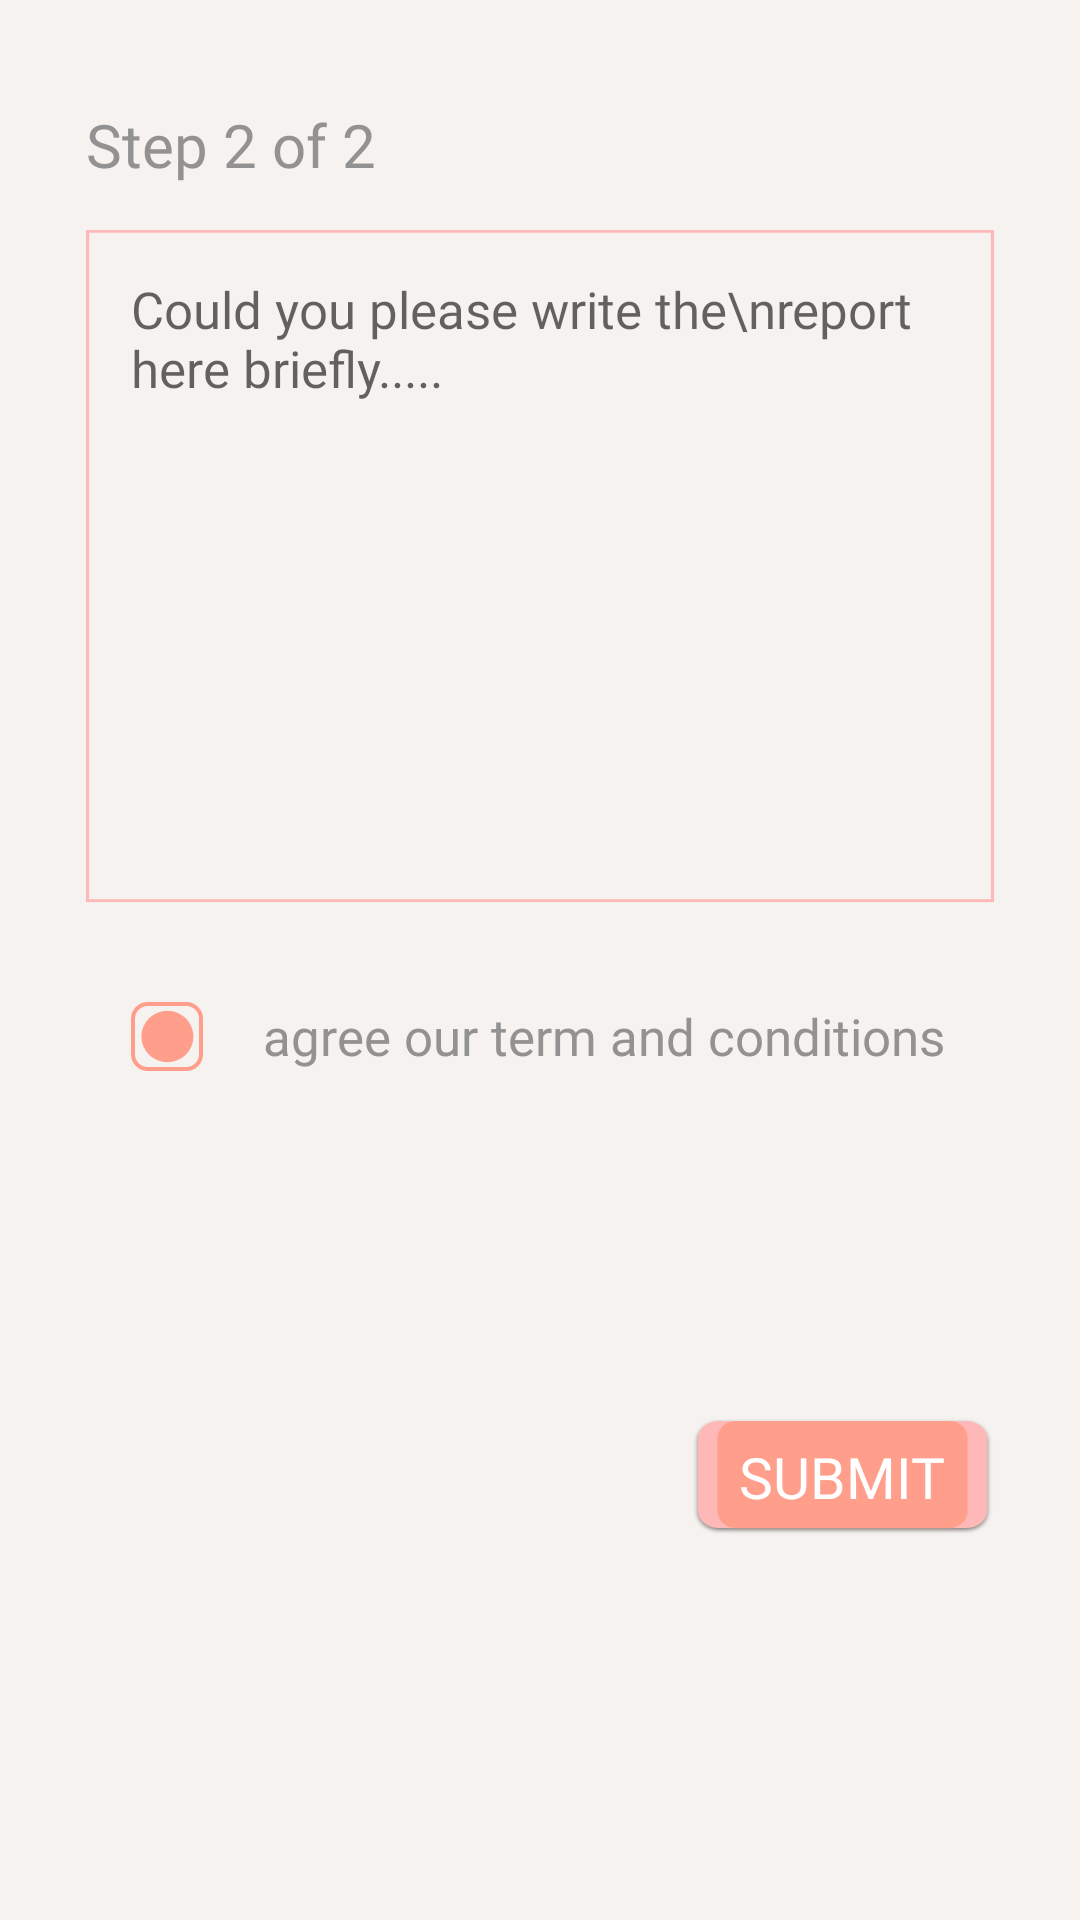

Point at icon controls on the screen. Image size 1080w x 1920h, points as (x=x, y=y).
report check checked: (x=167, y=1036)
